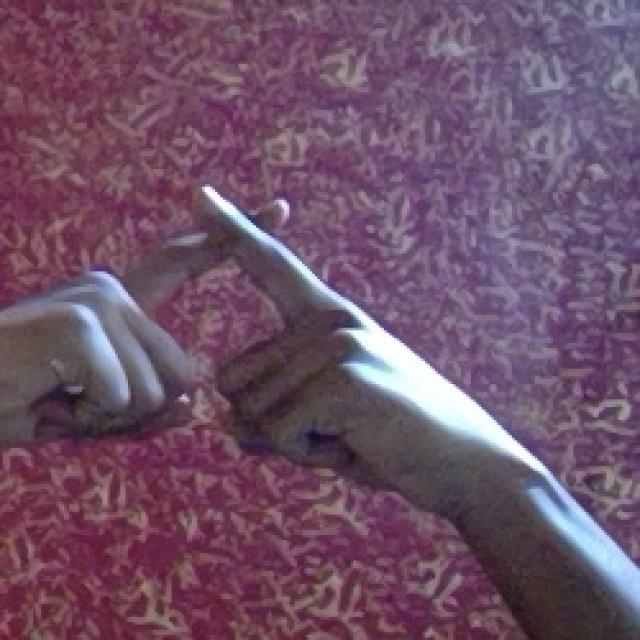Alphabet-X: (12, 163, 484, 528)
